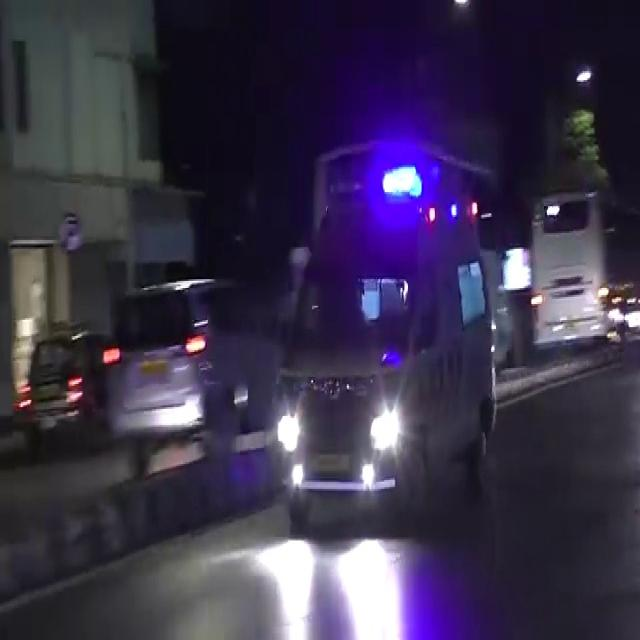ambulance: (271, 172, 497, 550)
